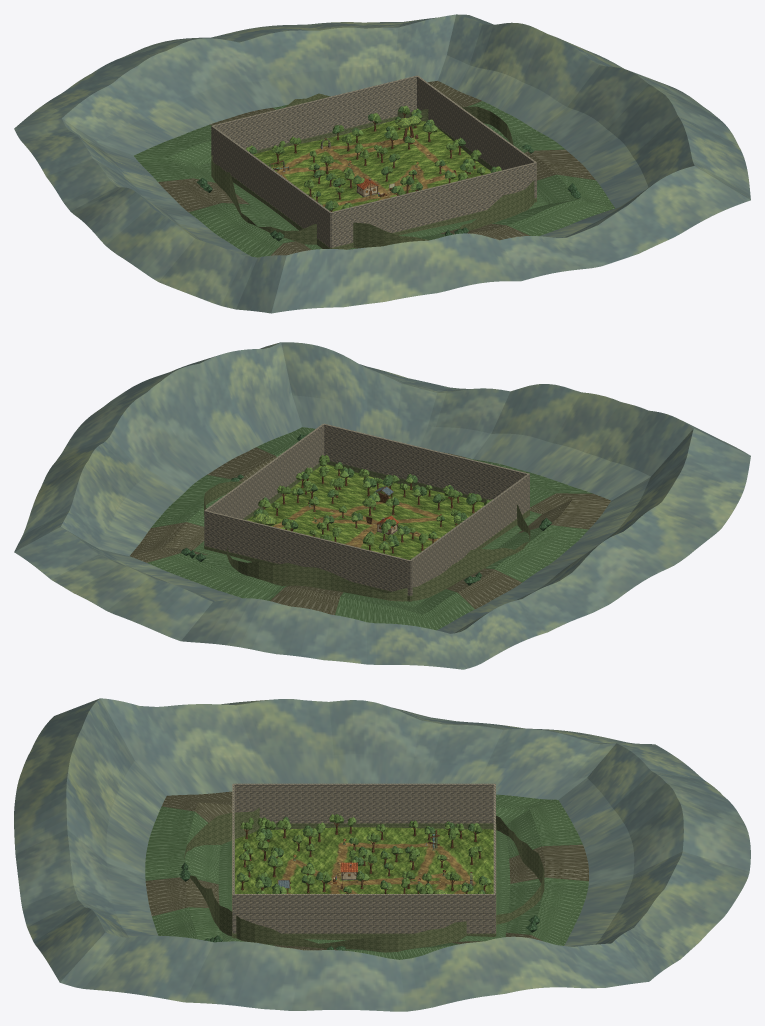
File: RowanHollow.fbx
The picture shows the model from 3 angles, top to bottom: view 1: azimuth 30°, elevation 25°; view 2: azimuth 150°, elevation 25°; view 3: azimuth 270°, elevation 25°; orthographic projection. The views are drawn at different scales.
Visible parts, largest first — view 1: Surroundings, C_Solids, Terrain, Backdrop, Rim, Set, GroveNear22, GroveNear32; view 2: Surroundings, C_Solids, Terrain, Backdrop, Rim, GroveNear30, GroveNear20, GroveNear10; view 3: Surroundings, C_Solids, Terrain, Backdrop, Rim, GroveNear00, GroveNear10, Set, GroveNear22, GroveNear20, GroveNear11.
Boxes of the visible parts, left/top/right/bottom form: Surroundings: left=14, top=14, right=750, bottom=313; C_Solids: left=211, top=75, right=536, bottom=247; Terrain: left=253, top=120, right=490, bottom=211; Backdrop: left=211, top=93, right=534, bottom=248; Rim: left=214, top=116, right=536, bottom=249; Set: left=269, top=126, right=455, bottom=197; GroveNear22: left=332, top=125, right=398, bottom=165; GroveNear32: left=368, top=106, right=437, bottom=149; Surroundings: left=14, top=342, right=750, bottom=669; C_Solids: left=204, top=423, right=529, bottom=595; Terrain: left=246, top=464, right=484, bottom=559; Backdrop: left=204, top=481, right=530, bottom=601; Rim: left=204, top=461, right=529, bottom=601; GroveNear30: left=296, top=455, right=354, bottom=503; GroveNear20: left=358, top=469, right=417, bottom=509; GroveNear10: left=385, top=485, right=469, bottom=525; Surroundings: left=14, top=698, right=750, bottom=1011; C_Solids: left=232, top=783, right=495, bottom=933; Terrain: left=235, top=827, right=493, bottom=893; Backdrop: left=184, top=808, right=544, bottom=952; Rim: left=232, top=823, right=496, bottom=939; GroveNear00: left=240, top=817, right=325, bottom=849; GroveNear10: left=239, top=840, right=315, bottom=875; Set: left=277, top=829, right=472, bottom=893; GroveNear22: left=402, top=871, right=491, bottom=893; GroveNear20: left=237, top=872, right=314, bottom=893; GroveNear11: left=349, top=846, right=402, bottom=869.
Bounding box in the file's own units: 29982 × 3661 × 29597.
